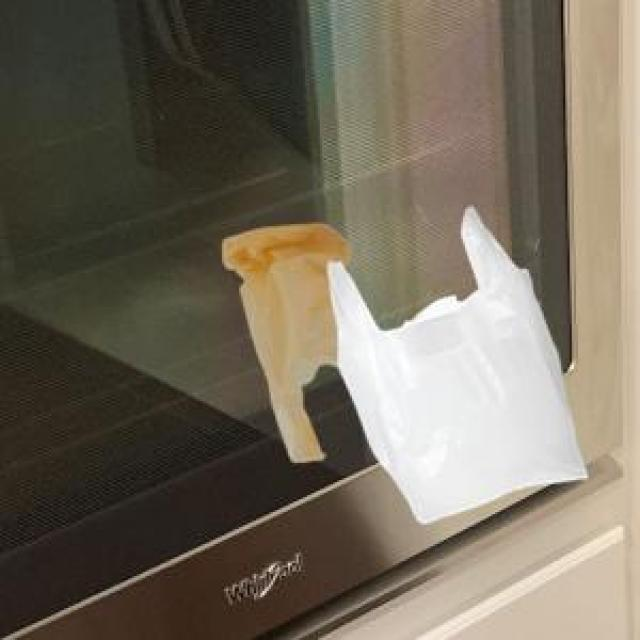Bolsa-de-plastico: (328, 208, 586, 523), (222, 224, 350, 462)
